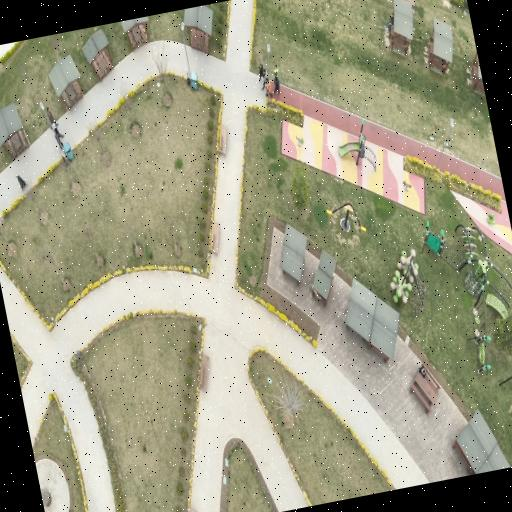person: (52, 123, 64, 139), (54, 130, 63, 150), (47, 108, 57, 125), (386, 13, 394, 32), (262, 69, 269, 89), (266, 81, 273, 99), (17, 175, 26, 189), (274, 76, 280, 94), (418, 365, 426, 377), (403, 181, 411, 192), (259, 63, 264, 80), (274, 65, 279, 78)
